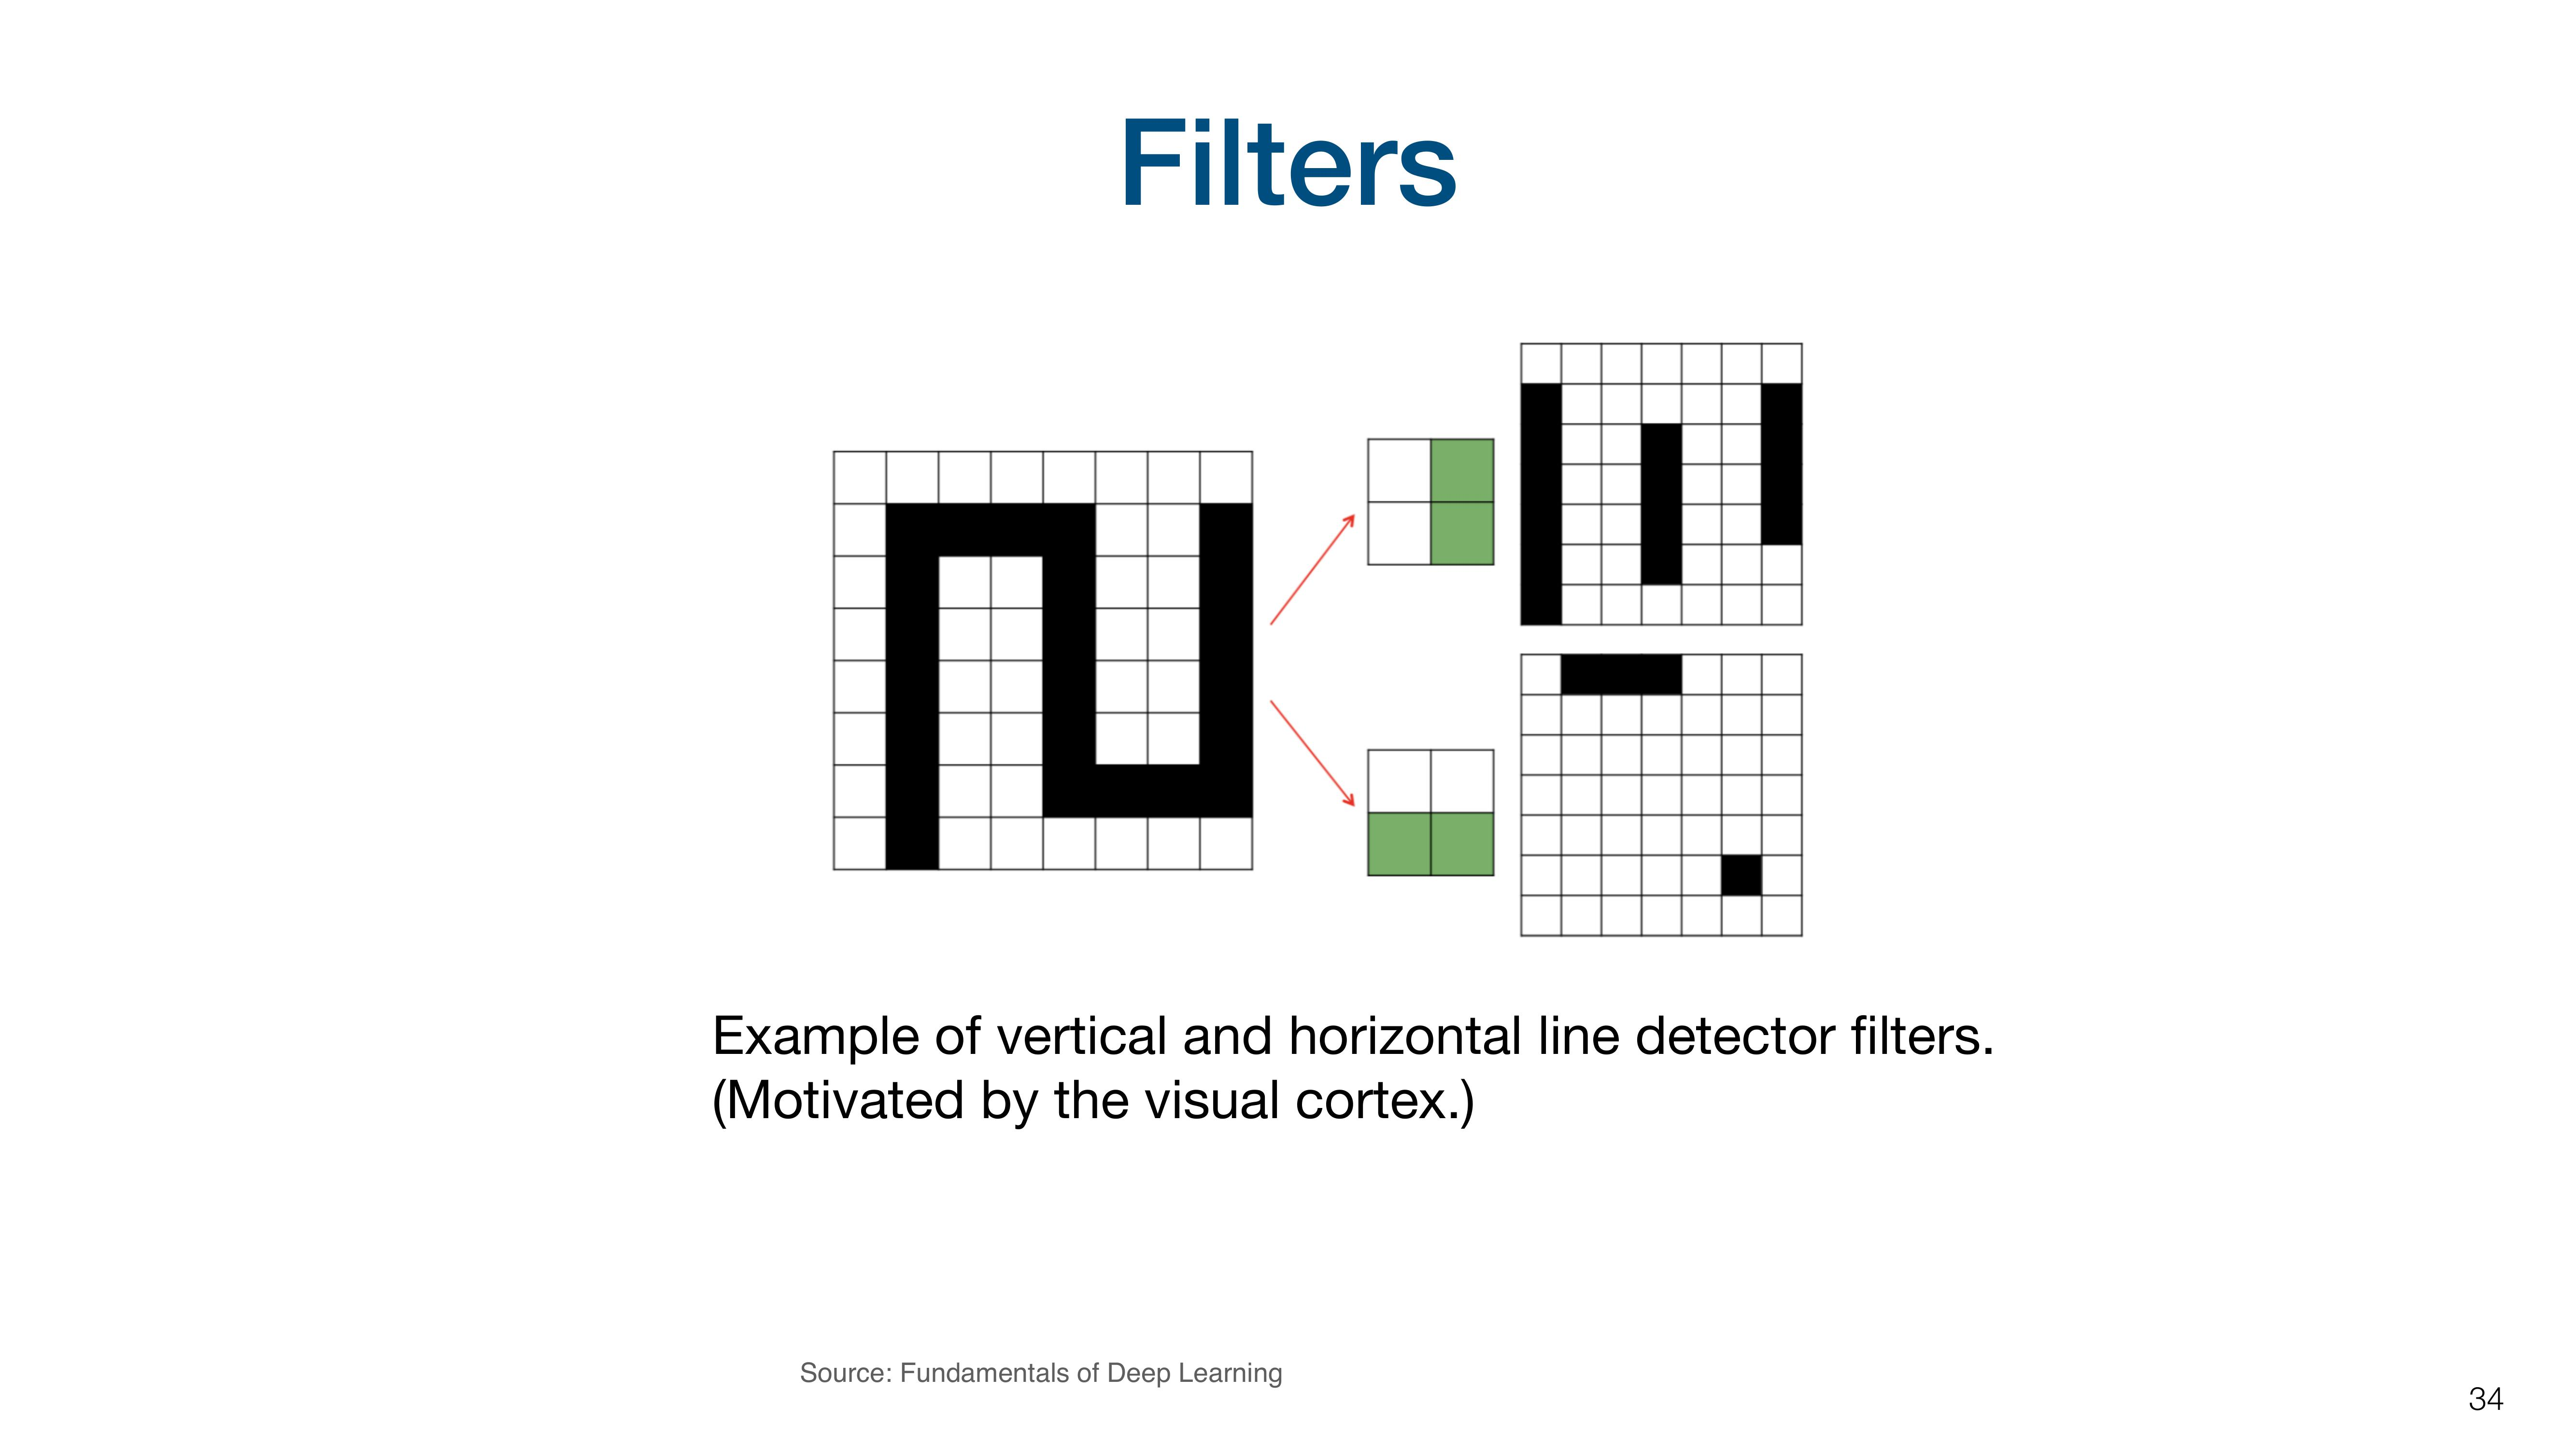Title: (1109, 106, 1479, 230)
